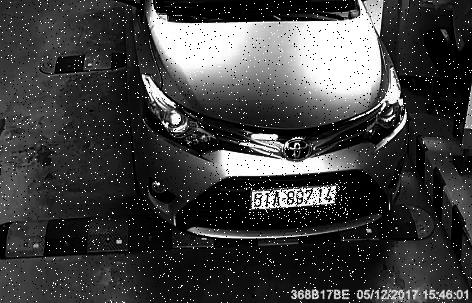License-plate: (247, 184, 350, 221)
